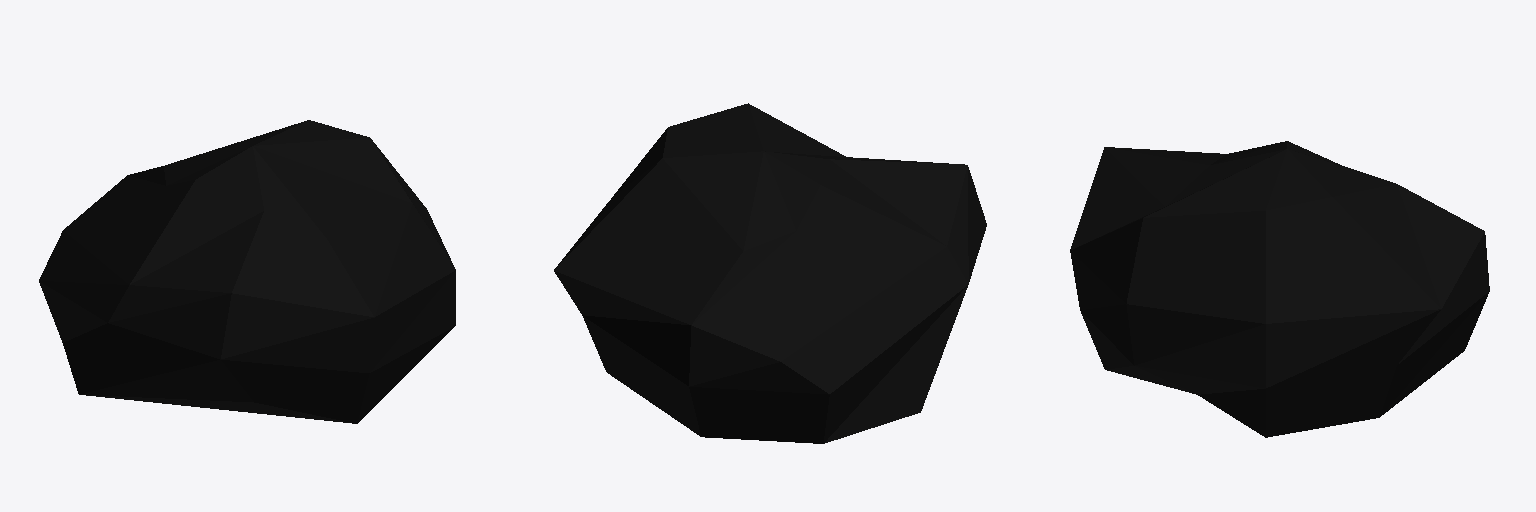
File: Single_Stone_B.obj
The picture shows the model from 3 angles: view 1: azimuth 30°, elevation 25°; view 2: azimuth 150°, elevation 25°; view 3: azimuth 270°, elevation 25°; orthographic projection.
Visible parts, largest first — view 1: Single_Stone_B; view 2: Single_Stone_B; view 3: Single_Stone_B.
Part boxes in pixels (x1,y1,x2,y2): Single_Stone_B: (39,120,455,423); Single_Stone_B: (554,103,986,443); Single_Stone_B: (1070,141,1489,437).
Bounding box in the file's own units: 2.76 × 1.62 × 2.87.